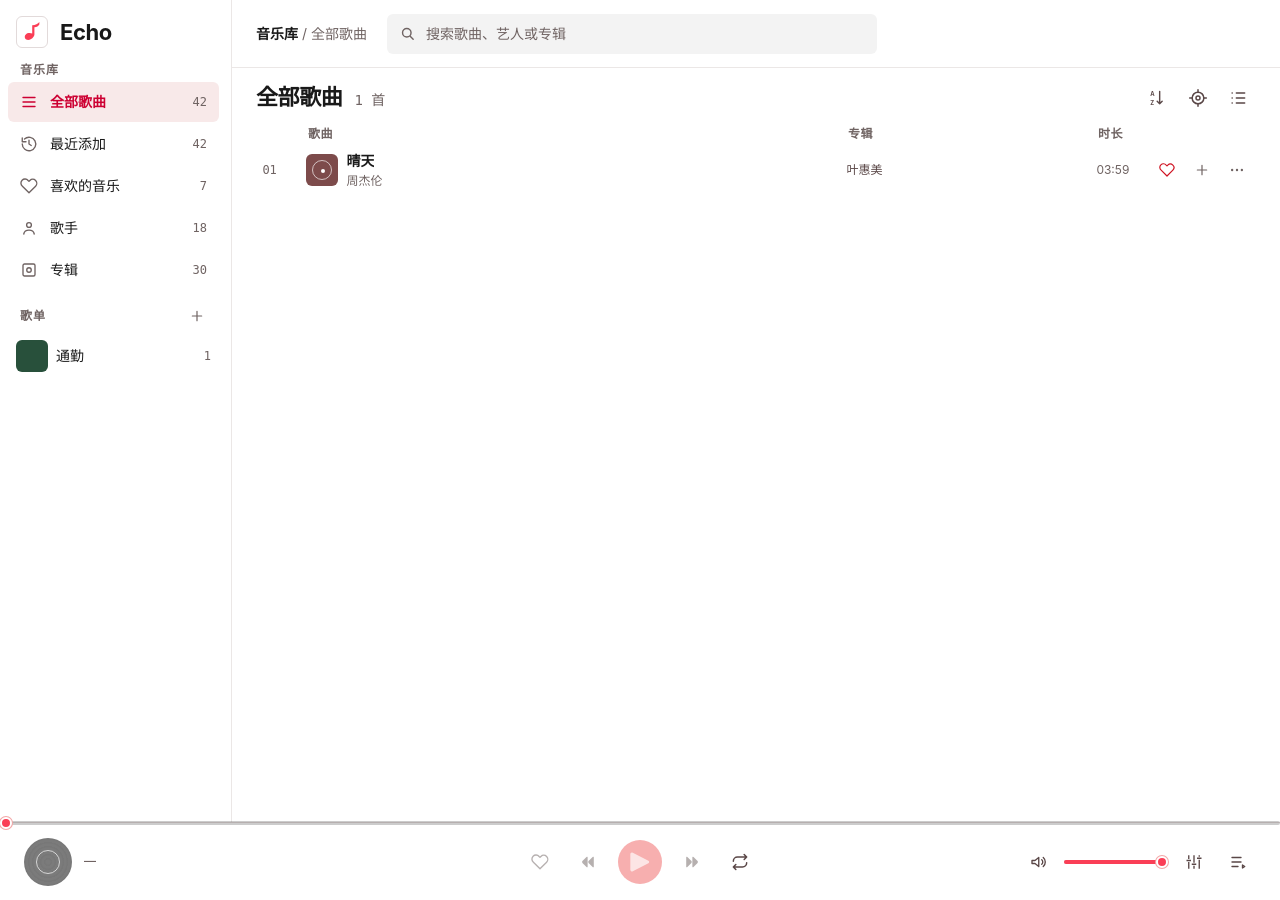
Scenario: 音乐库导航计数 › refreshes playlist member counts after deleting and undoing a library song
Expected: the text with test id "playlist-count-list-1" reads "1", [204,349,211,363]
Expected: the text "晴天" is shown, [346,150,374,172]
Click the button named "歌曲操作" at (1237, 170), box [1223,156,1250,184]
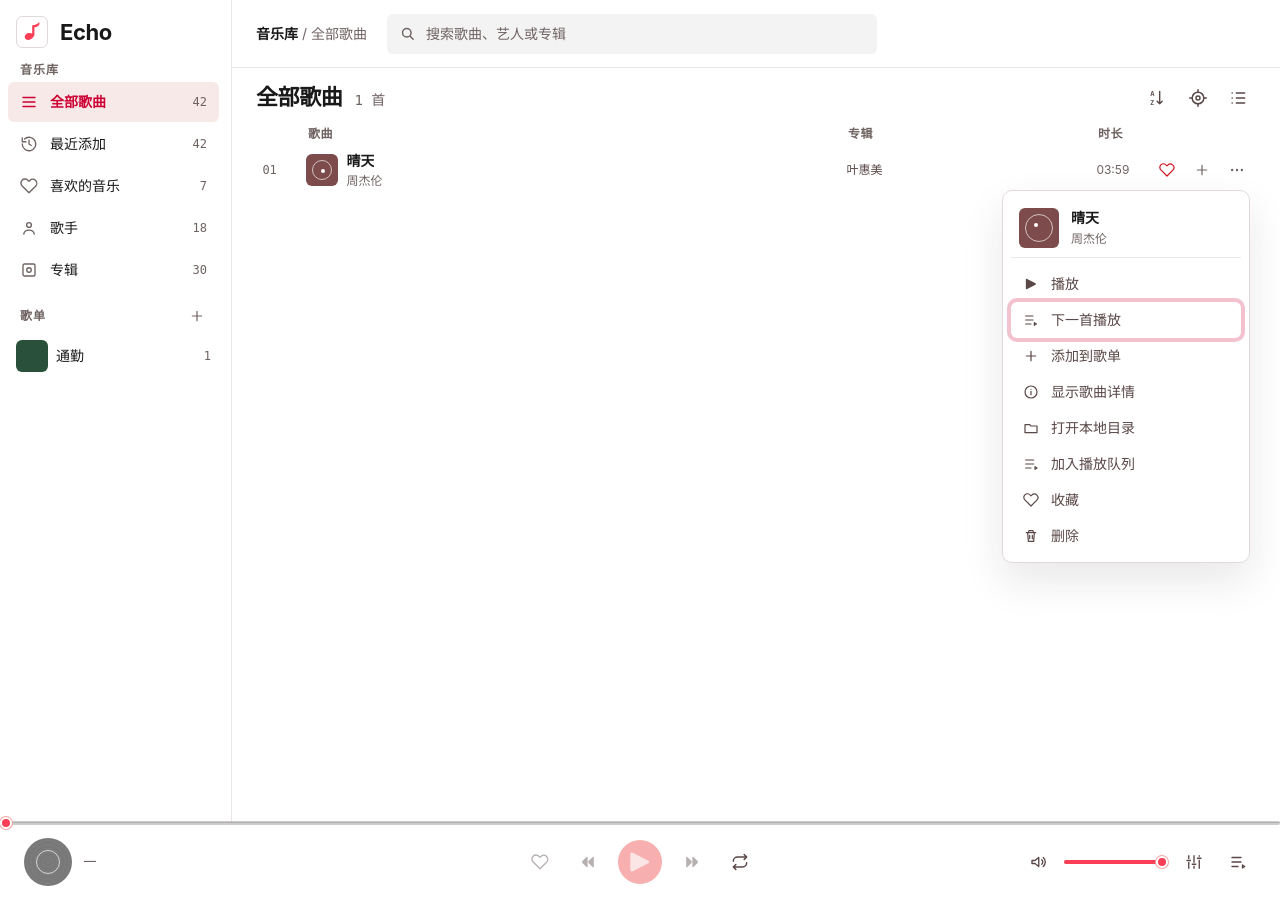
Click the menu item "删除" at (1126, 536), box [1011,518,1241,554]
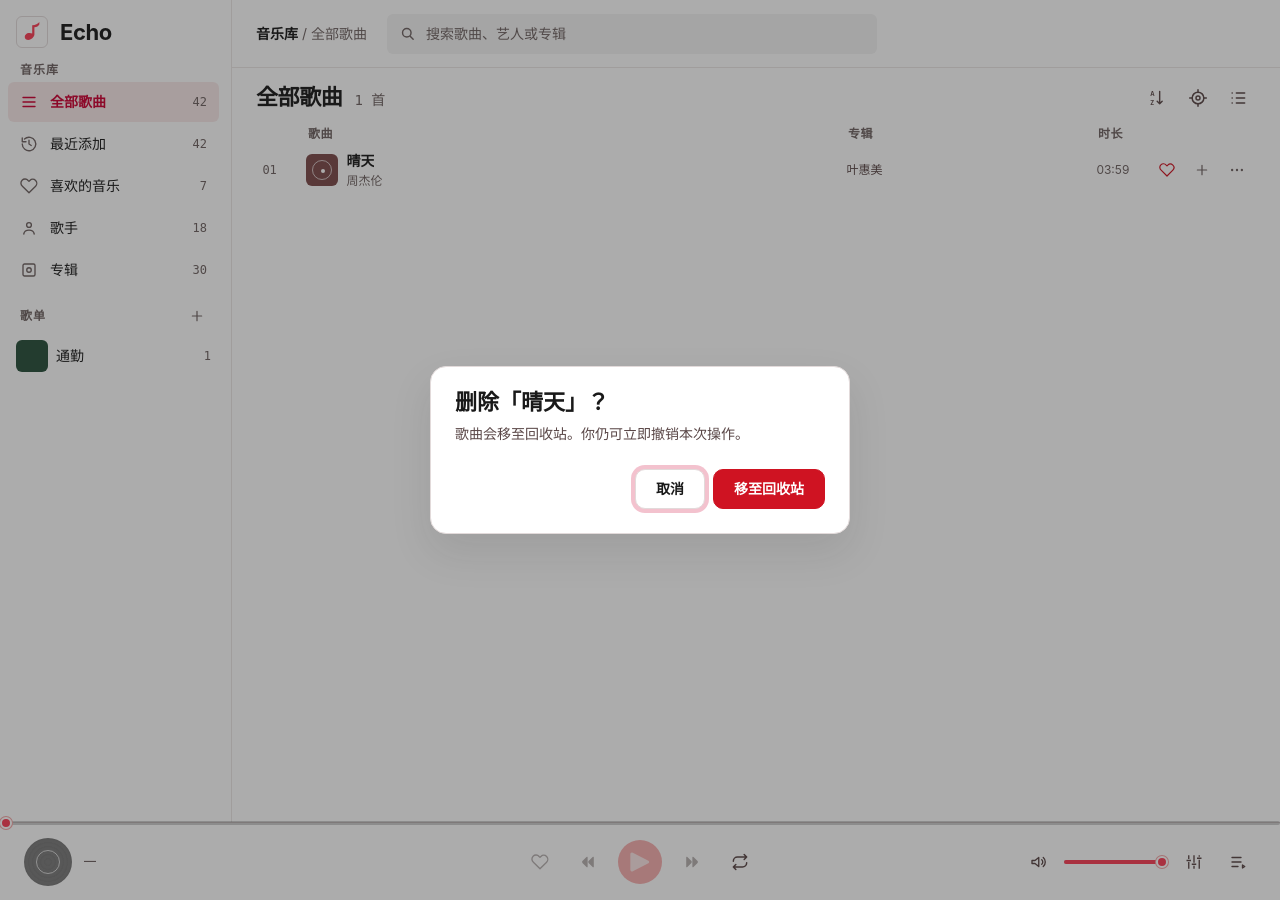
Click the button "移至回收站" at (769, 488), box [713,468,825,508]
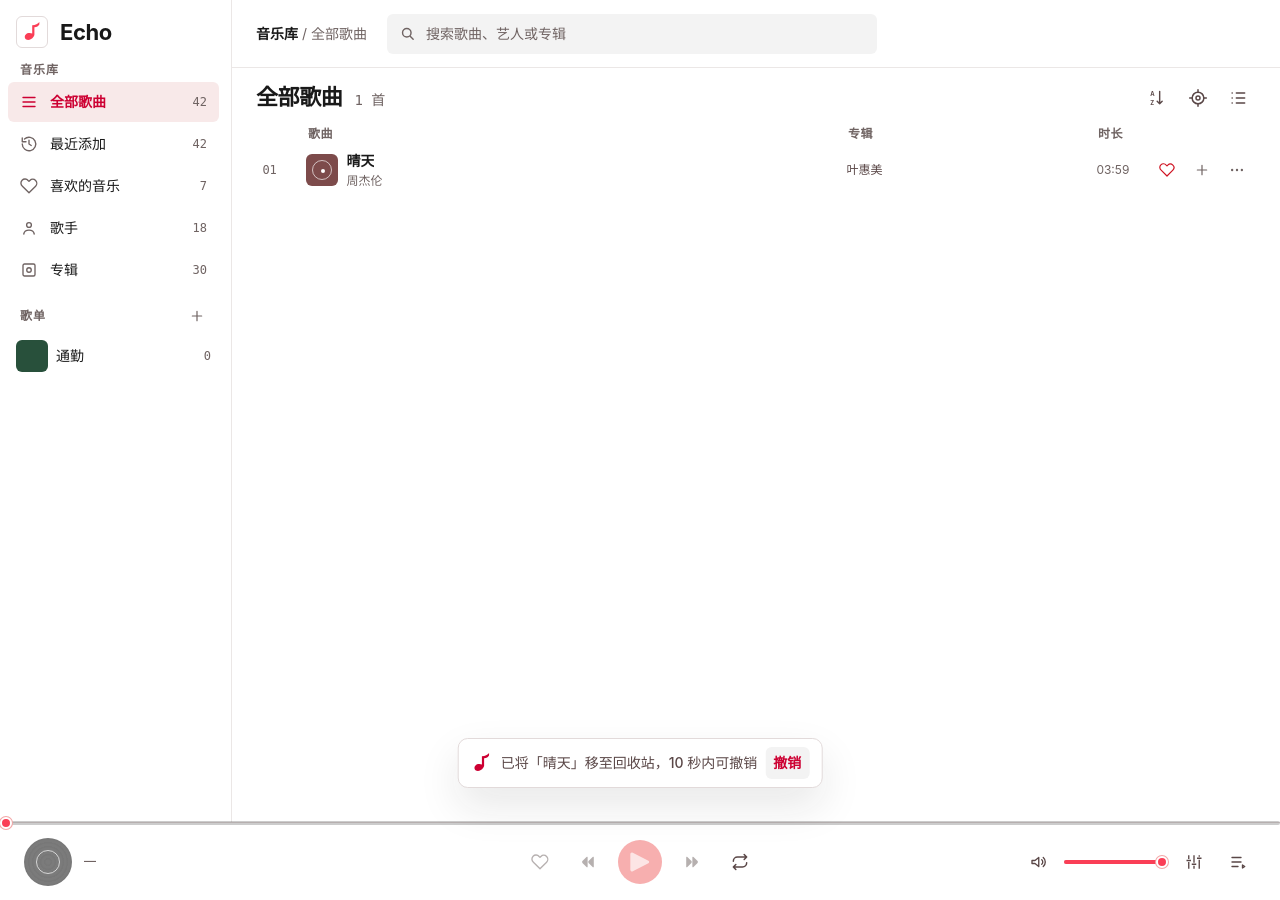
Expected: the text with test id "playlist-count-list-1" reads "0", [204,349,211,363]
Click the button "撤销" at (787, 763), box [765,747,809,779]
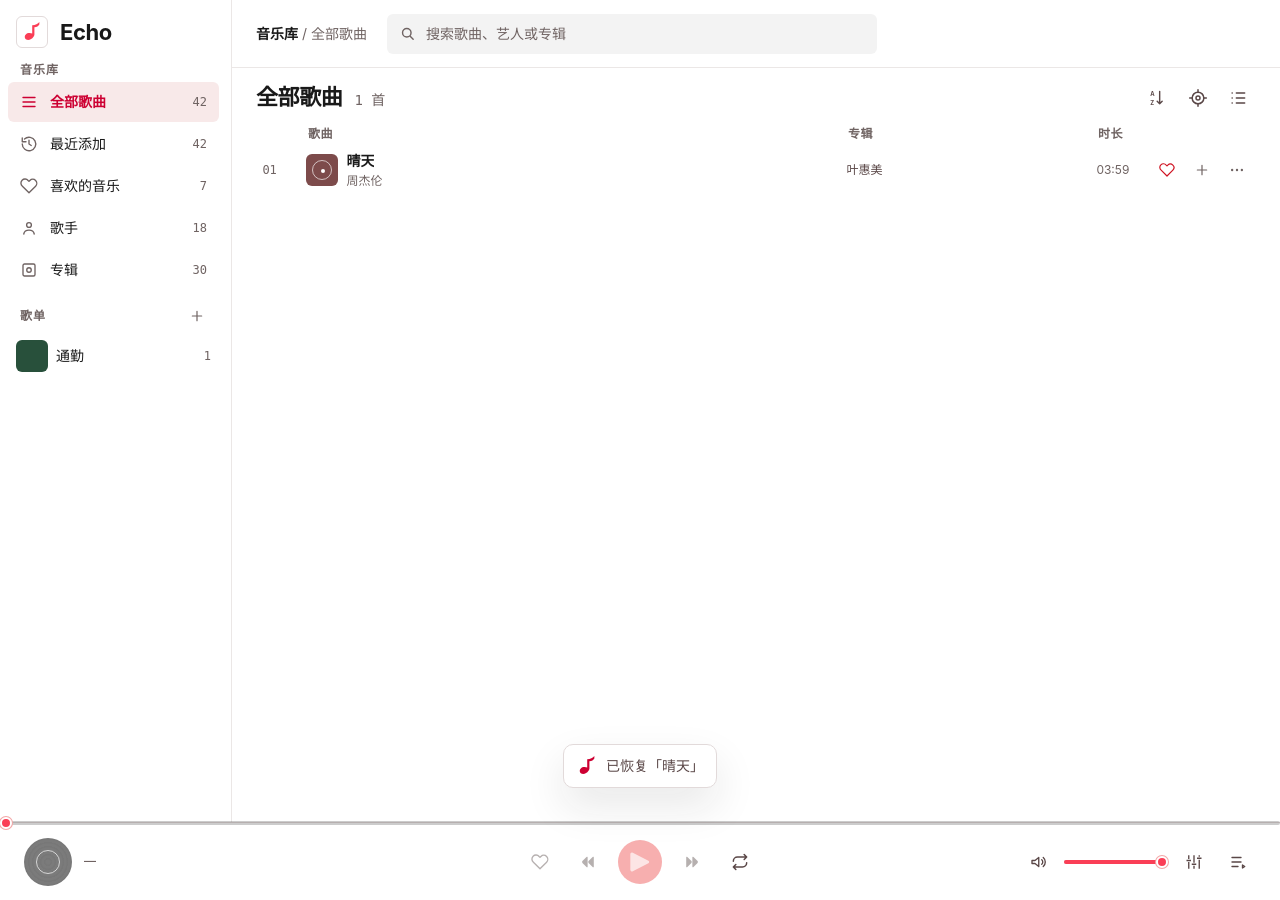
Expected: the text with test id "playlist-count-list-1" reads "1", [204,349,211,363]
